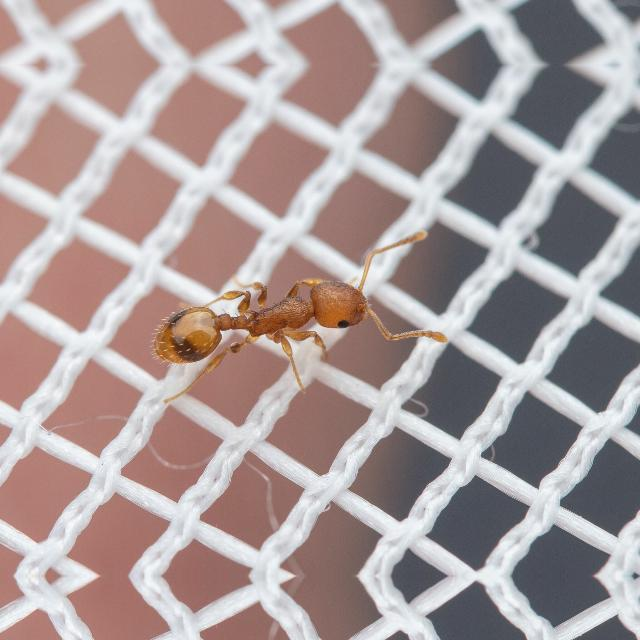Temnothorax: (144, 241, 422, 387)
